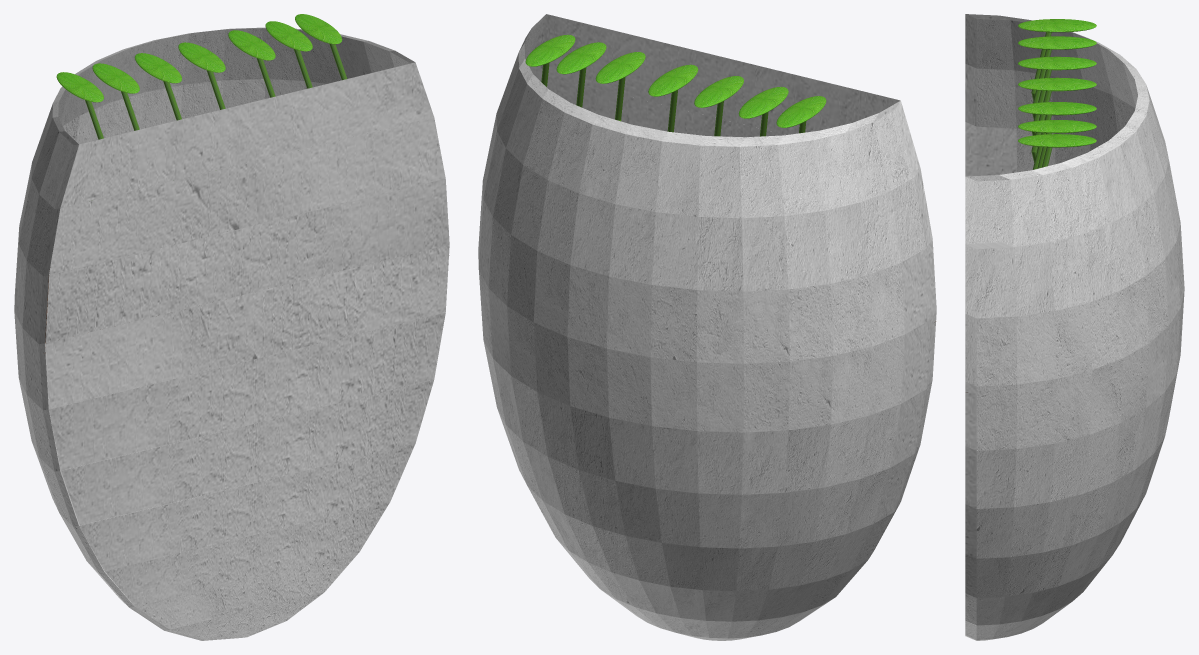
File: FlowerPotWall1.fbx
3 views of the same model, side by side, from view 1: azimuth 30°, elevation 25°; view 2: azimuth 150°, elevation 25°; view 3: azimuth 270°, elevation 25° (orthographic). The views are drawn at different scales.
Visible parts, largest first — view 1: Sphere, Sphere.007, Sphere.003, Sphere.006, Sphere.004, Sphere.005, Sphere.008, Sphere.002; view 2: Sphere, Sphere.006, Sphere.007, Sphere.005, Sphere.002, Sphere.004, Sphere.003, Sphere.008; view 3: Sphere, Sphere.002, Sphere.008, Sphere.003, Sphere.005, Sphere.004, Sphere.006, Sphere.007.
Part boxes in pixels (left/top/right/bottom): Sphere: left=14, top=27, right=449, bottom=640; Sphere.007: left=265, top=21, right=312, bottom=51; Sphere.003: left=56, top=72, right=103, bottom=102; Sphere.006: left=178, top=42, right=225, bottom=72; Sphere.004: left=228, top=30, right=275, bottom=60; Sphere.005: left=134, top=53, right=181, bottom=83; Sphere.008: left=92, top=63, right=139, bottom=93; Sphere.002: left=295, top=14, right=342, bottom=44; Sphere: left=478, top=14, right=936, bottom=640; Sphere.006: left=648, top=64, right=698, bottom=96; Sphere.007: left=556, top=42, right=606, bottom=74; Sphere.005: left=694, top=76, right=743, bottom=107; Sphere.002: left=525, top=34, right=575, bottom=66; Sphere.004: left=595, top=52, right=645, bottom=83; Sphere.003: left=776, top=96, right=826, bottom=127; Sphere.008: left=738, top=86, right=788, bottom=118; Sphere: left=965, top=14, right=1184, bottom=640; Sphere.002: left=1018, top=134, right=1096, bottom=147; Sphere.008: left=1018, top=36, right=1096, bottom=49; Sphere.003: left=1018, top=19, right=1096, bottom=32; Sphere.005: left=1018, top=56, right=1096, bottom=70; Sphere.004: left=1018, top=102, right=1096, bottom=115; Sphere.006: left=1018, top=77, right=1096, bottom=91; Sphere.007: left=1018, top=120, right=1096, bottom=133.
Bounding box in the file's own units: 316 × 412 × 150.
